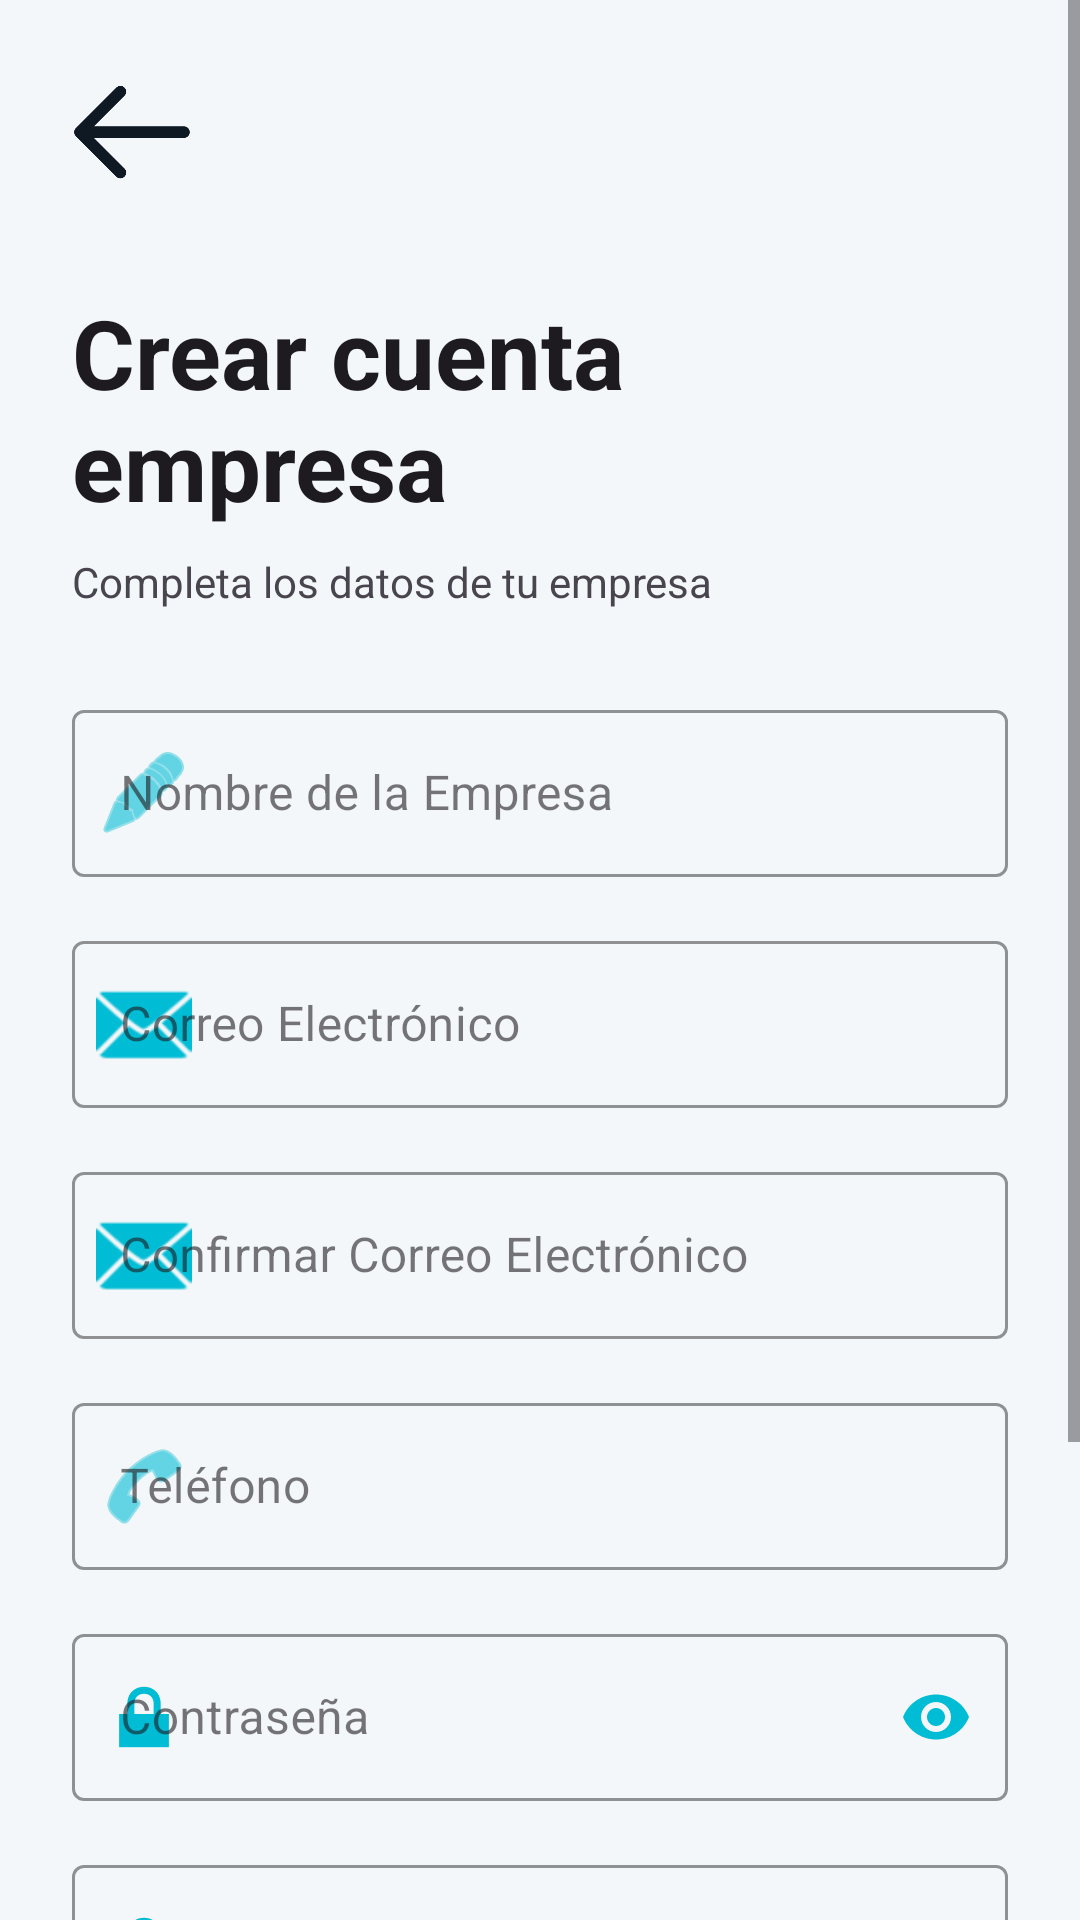

Screen size 1080px×1920px. Icon name, then its box in pixels as [x1,y1,x2,y2]:
Regresar: [74,86,190,179]
